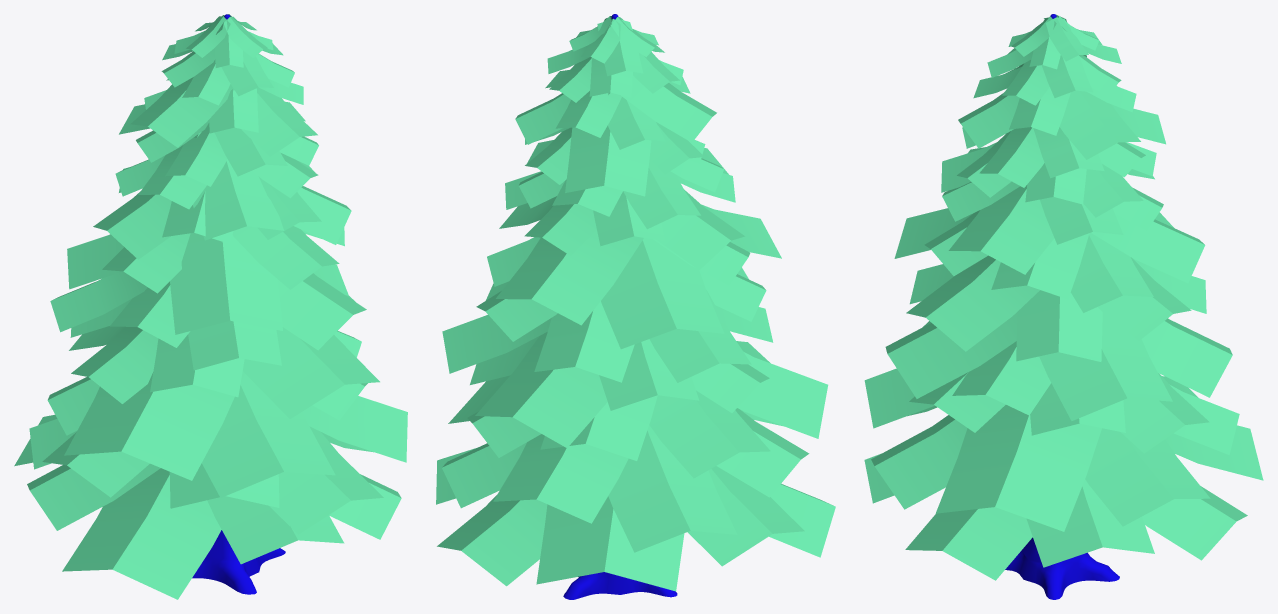
File: Pine Tree New.fbx
The picture shows the model from 3 angles, left to right: view 1: azimuth 30°, elevation 25°; view 2: azimuth 150°, elevation 25°; view 3: azimuth 270°, elevation 25°; orthographic projection. The views are drawn at different scales.
Visible parts, largest first — view 1: Cylinder, Cylinder.005; view 2: Cylinder, Cylinder.005; view 3: Cylinder, Cylinder.005.
Boxes of the visible parts, x1,y1,x2,y2 form: Cylinder: [14, 14, 407, 599]; Cylinder.005: [192, 14, 285, 594]; Cylinder: [436, 16, 835, 591]; Cylinder.005: [563, 14, 677, 599]; Cylinder: [864, 14, 1263, 580]; Cylinder.005: [1005, 14, 1119, 599].
Bounding box in the file's own units: 1013 × 1563 × 1016.
